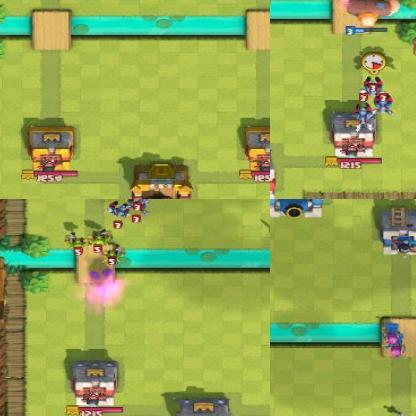ally_archer: (383, 332, 409, 360), (378, 321, 404, 347)
ally_giant: (334, 0, 405, 37)
enemy_goblin: (63, 229, 92, 256), (98, 242, 127, 268), (86, 228, 114, 252)
enemy_minion: (352, 92, 378, 132), (106, 199, 134, 231), (368, 92, 397, 119), (125, 199, 152, 224), (358, 76, 388, 98), (127, 199, 151, 212)
